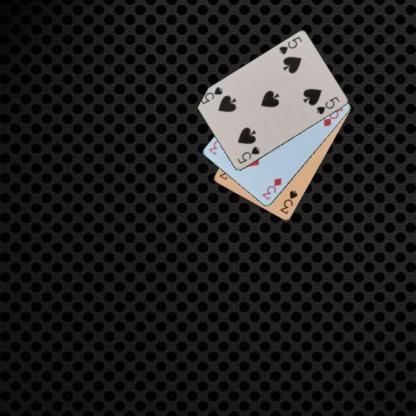3d: (260, 176, 283, 201)
3s: (277, 188, 299, 215)
5s: (276, 34, 304, 56), (235, 144, 261, 165)
